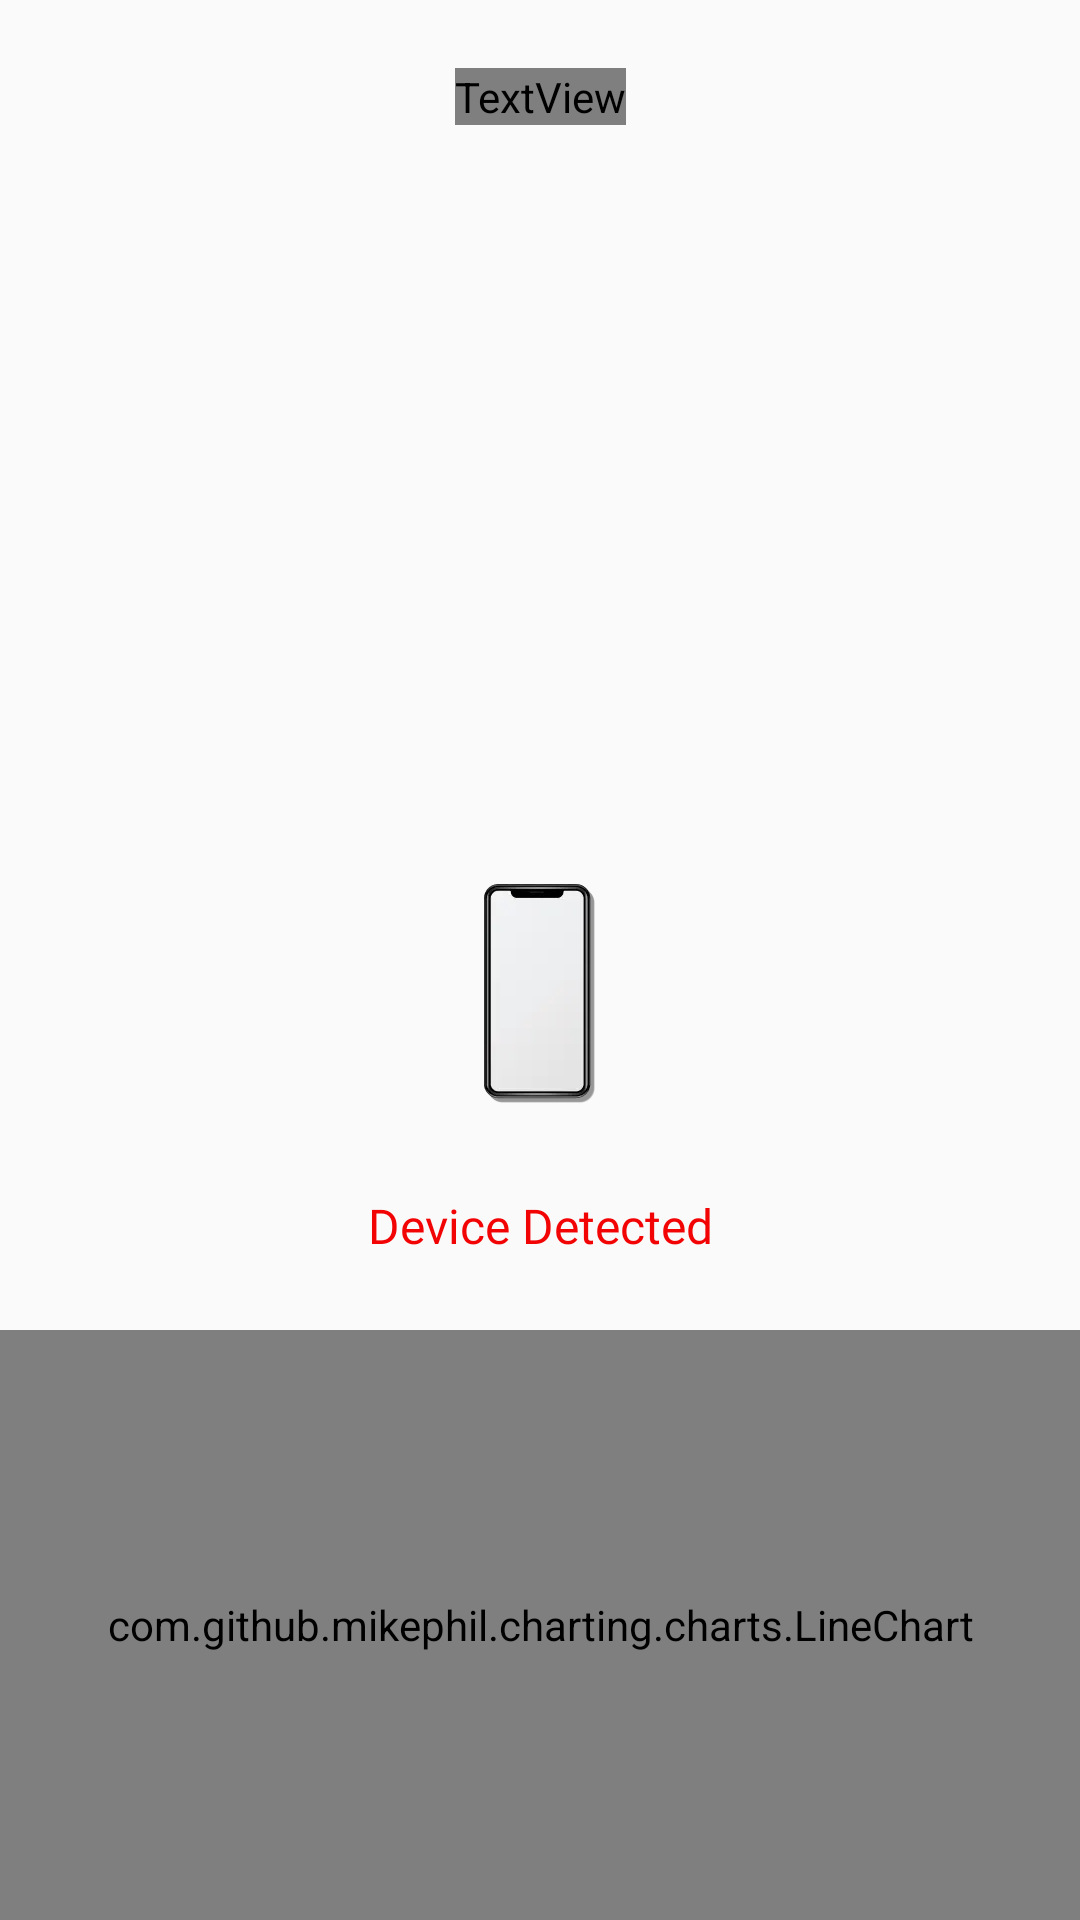

Where icons sit on this 1080px x 1920px app screen, as {"left": x1, "top": y1, "right": x2, "bottom": y2}:
mobile: {"left": 484, "top": 884, "right": 595, "bottom": 1103}
